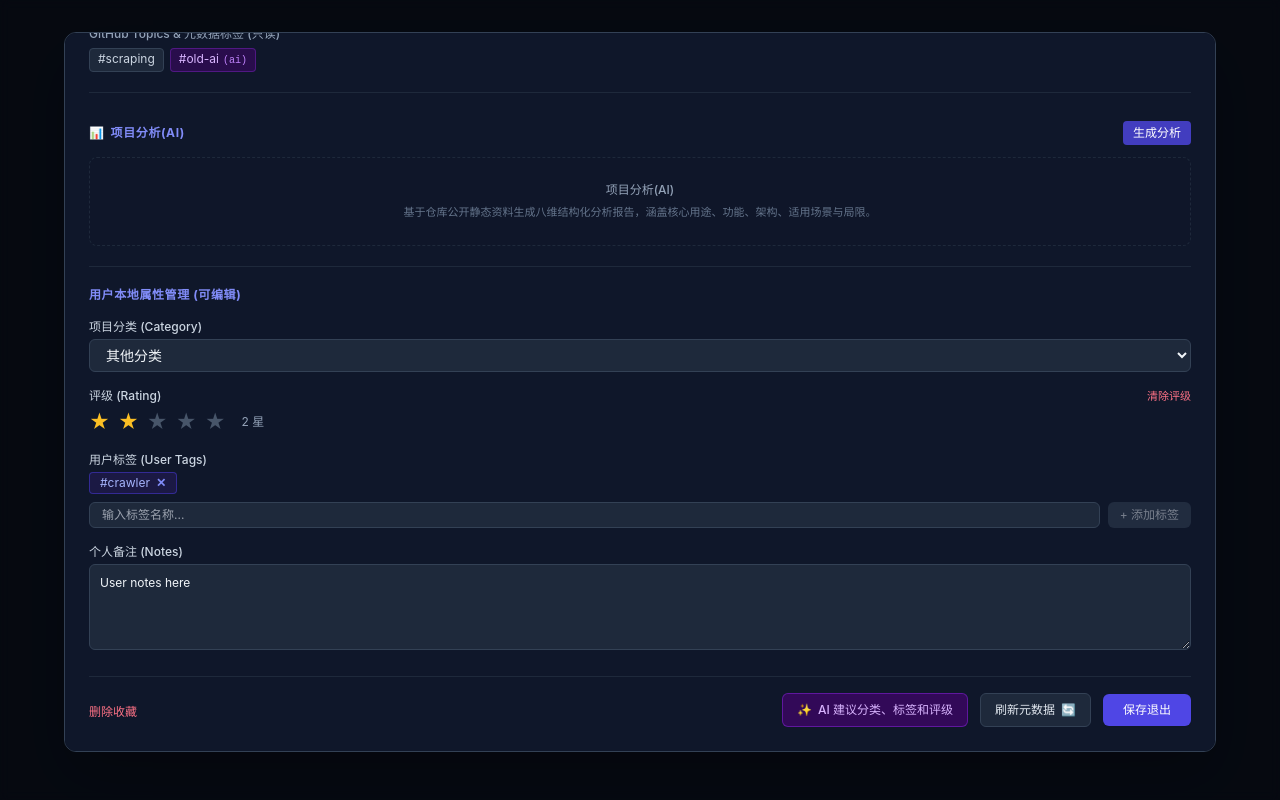
FavoriteDetailModal Phase 6-C Acceptance Tests › Phase 6-C Enhancement: AI Rating, Ollama Structured Suggestion & Detail Modal Enlarge › P6C-ENH-03: AI suggestions overwrite previous Rating upon clicking button again
(page scrolled)
Check: the text "2 星" is shown, box [242,414,264,430]
// First click: rating becomes 3
Step 1. Click the button with test id "ai-suggest-btn" → [875, 710], box [782,693,968,727]
(page scrolled)
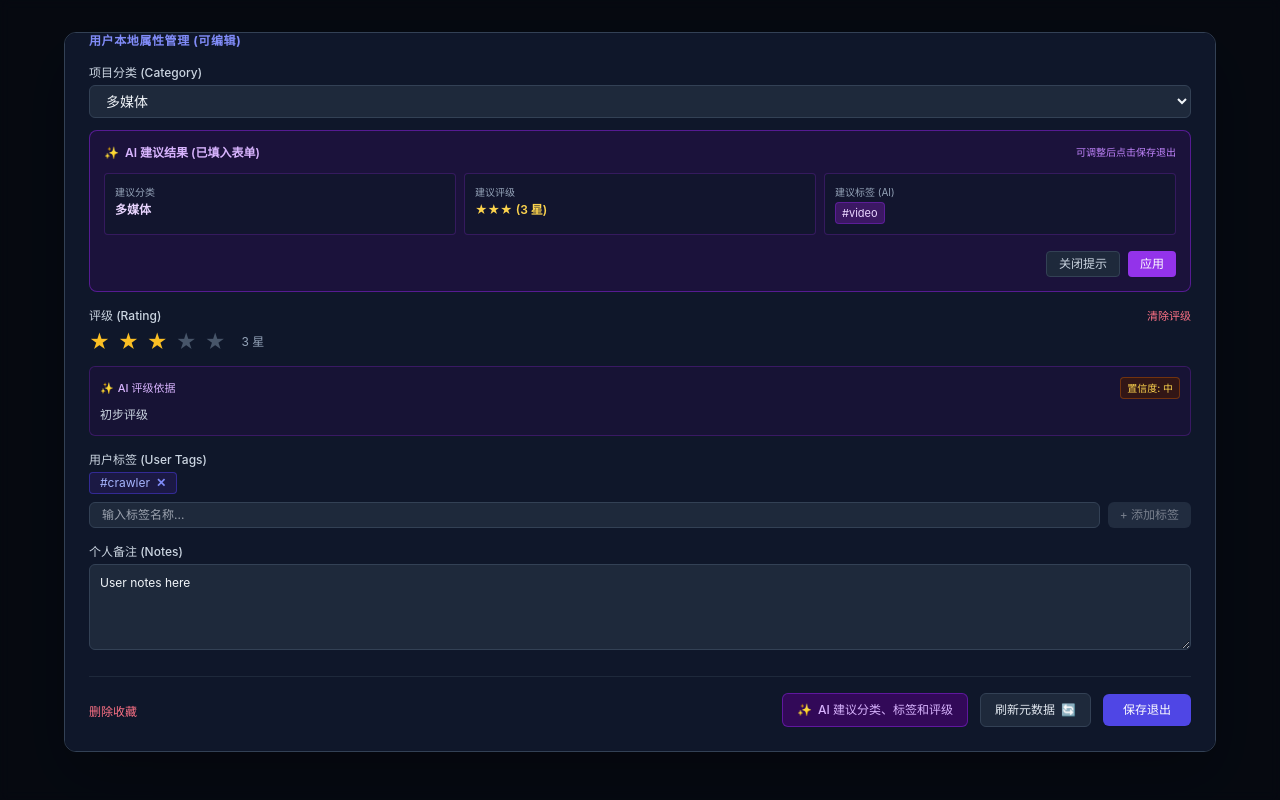
Check: the text "3 星" is shown, box [242,334,264,350]
Check: the text with test id "ai-rating-reason-text" reads "初步评级", box [100,407,148,422]
// Second click: rating overwrites to 5!
Step 2. Click the button with test id "ai-suggest-btn" → [875, 710], box [782,692,968,726]
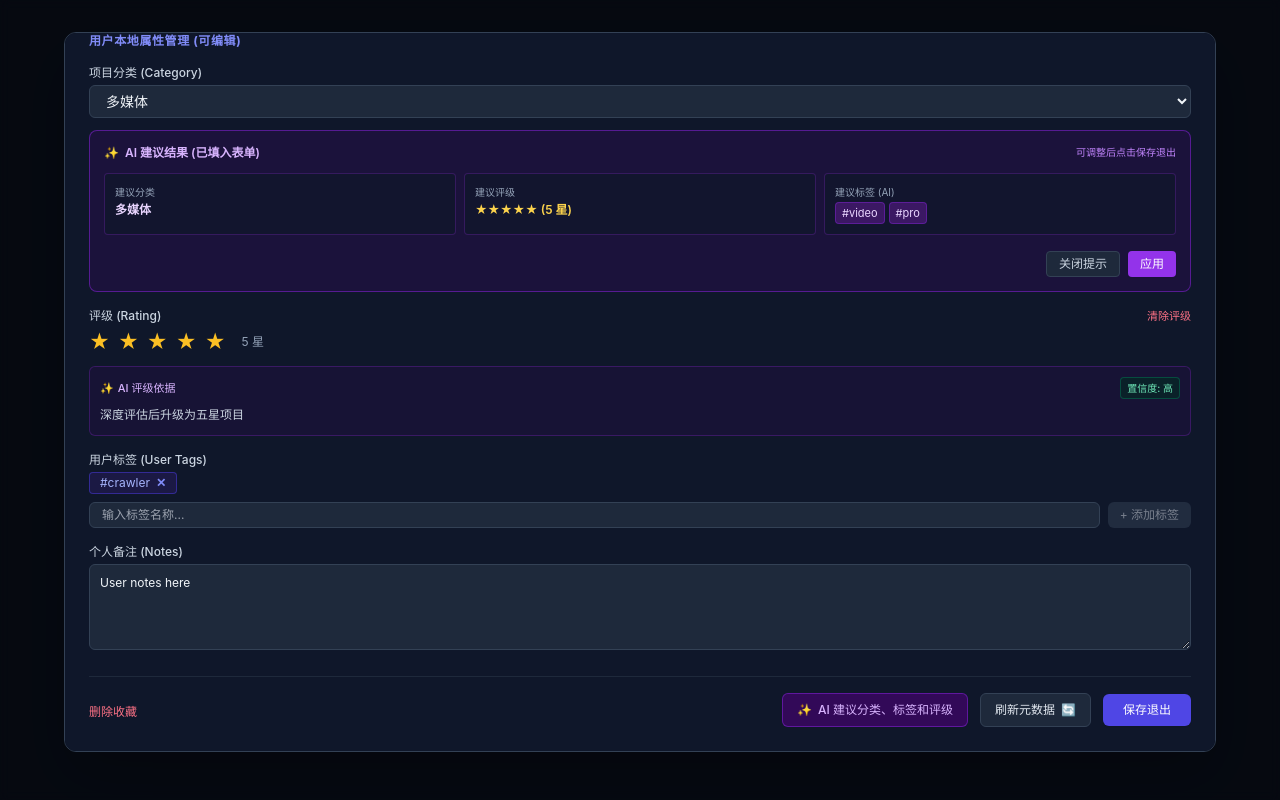
Check: the text "5 星" is shown, box [242,334,264,350]
Check: the text with test id "ai-rating-reason-text" reads "深度评估后升级为五星项目", box [100,407,244,422]
Check: the text with test id "ai-rating-confidence-badge" reads "置信度: 高", box [1120,377,1180,399]
